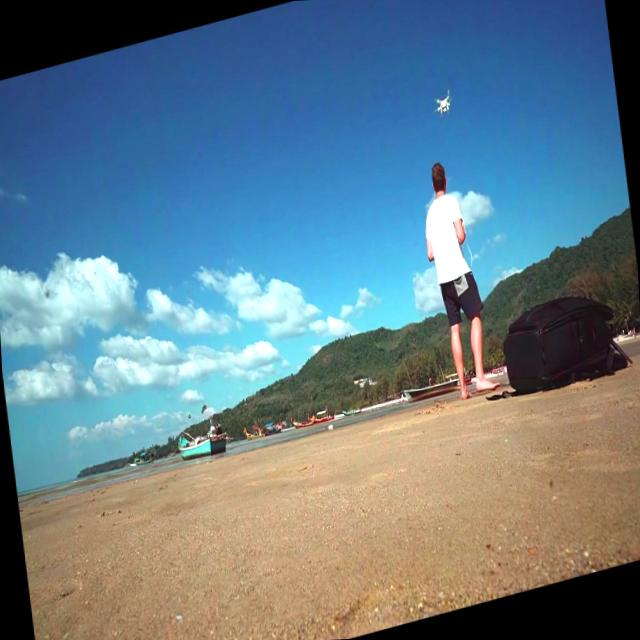drone: (432, 74, 457, 129)
